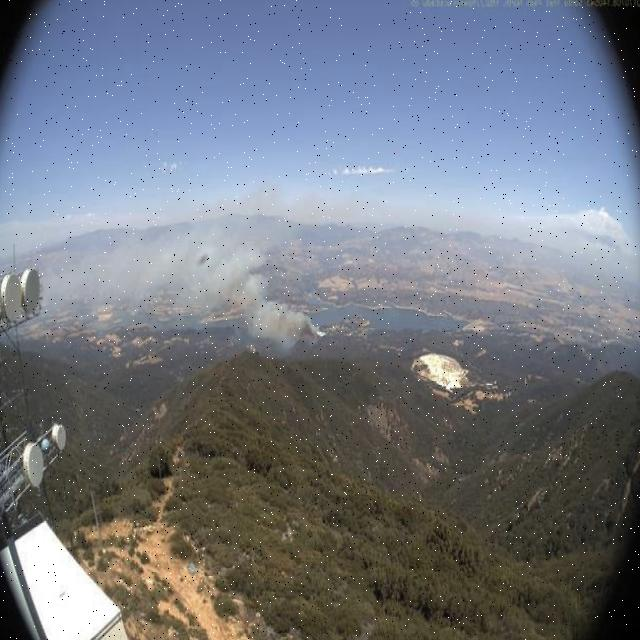smoke: (70, 203, 331, 360)
